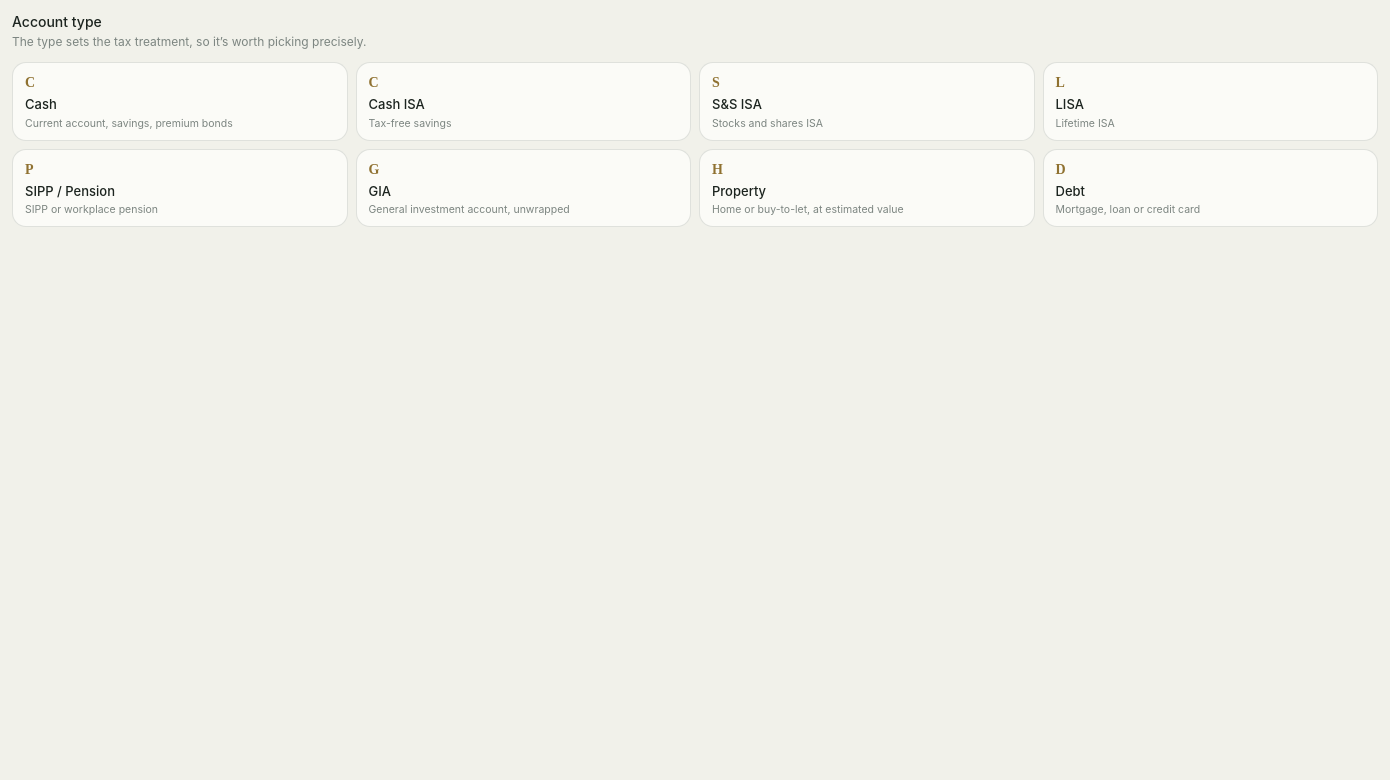
Test: conditional fields by type › shows debt fields for a debt account, marked optional
What coordinates should you click on to do the following:
click the button "D Debt Mortgage, loan or credit card"
I would click on:
 (1128, 210)
Its box is [1042,149,1378,227].
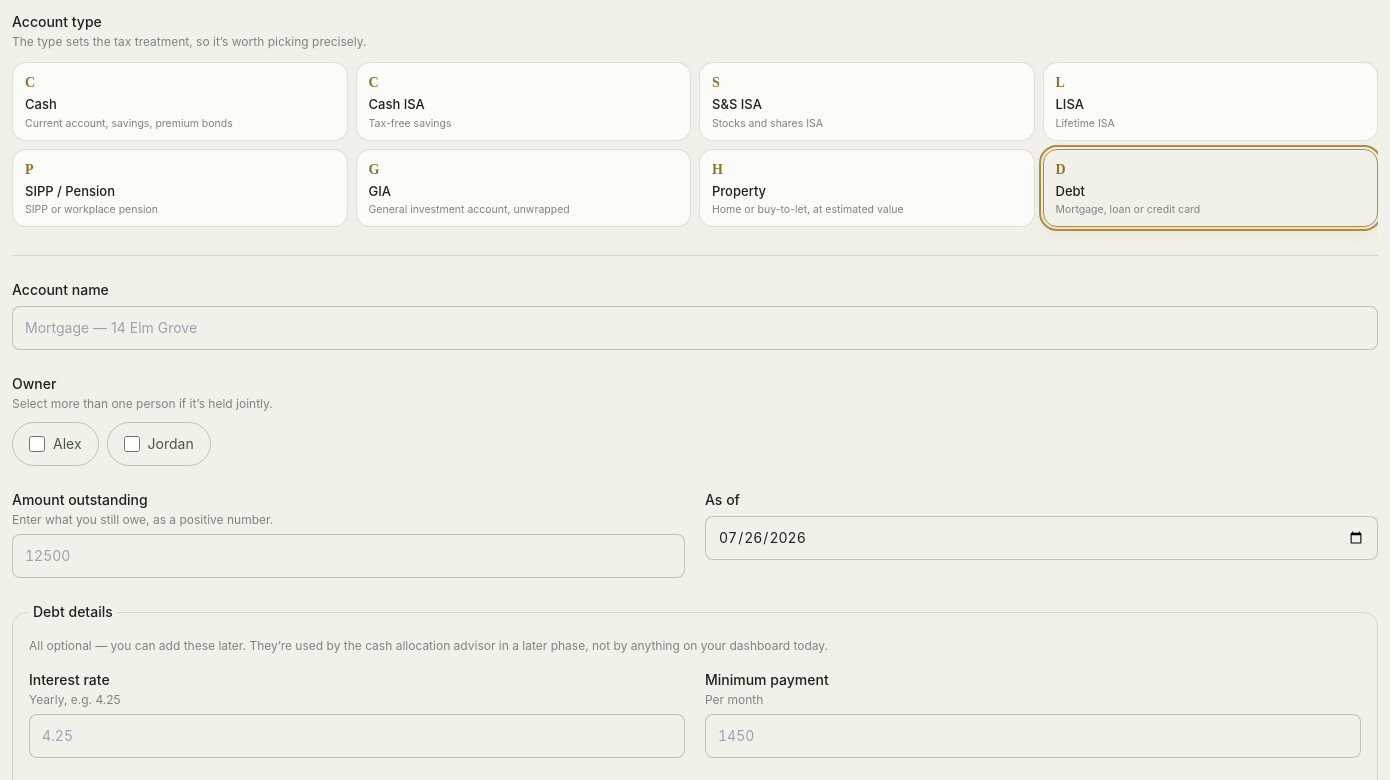
Expected: the field labelled "Interest rate" is shown, [29,714,685,758]
Expected: the field labelled "Minimum payment" is shown, [705,714,1361,758]
Expected: the text "All optional — you can add these later" is shown, [29,638,828,653]
